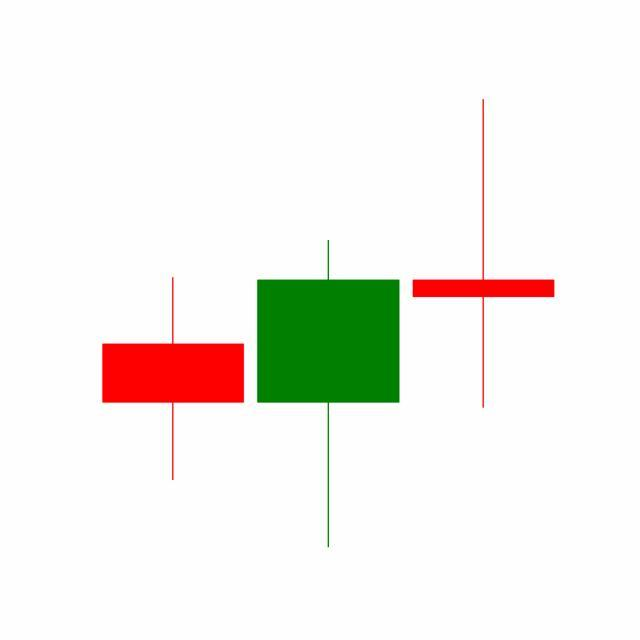Hammer: (250, 237, 407, 552)
